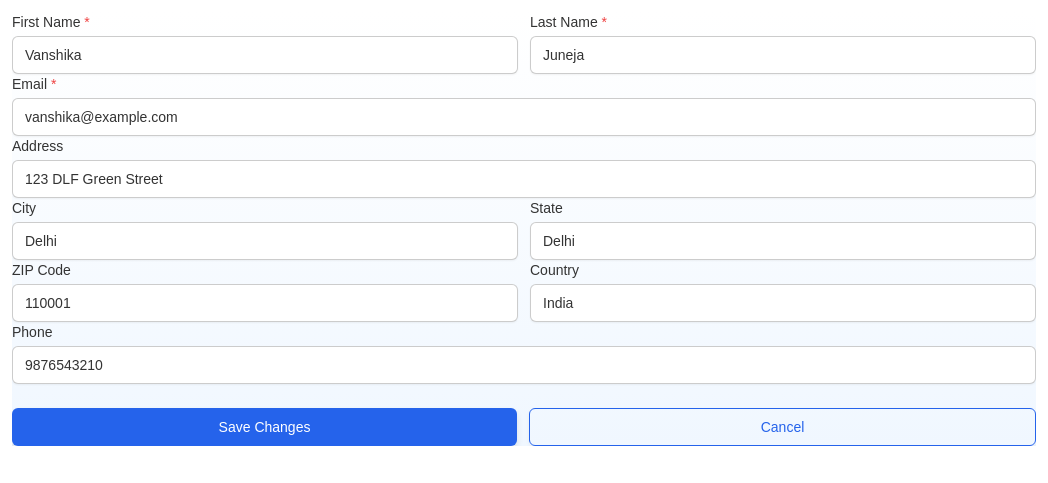
it: ProfileForm › validation › shows error for empty first name on submit
Clear the field labelled "First Name *" at (265, 55), box [12, 36, 518, 74]
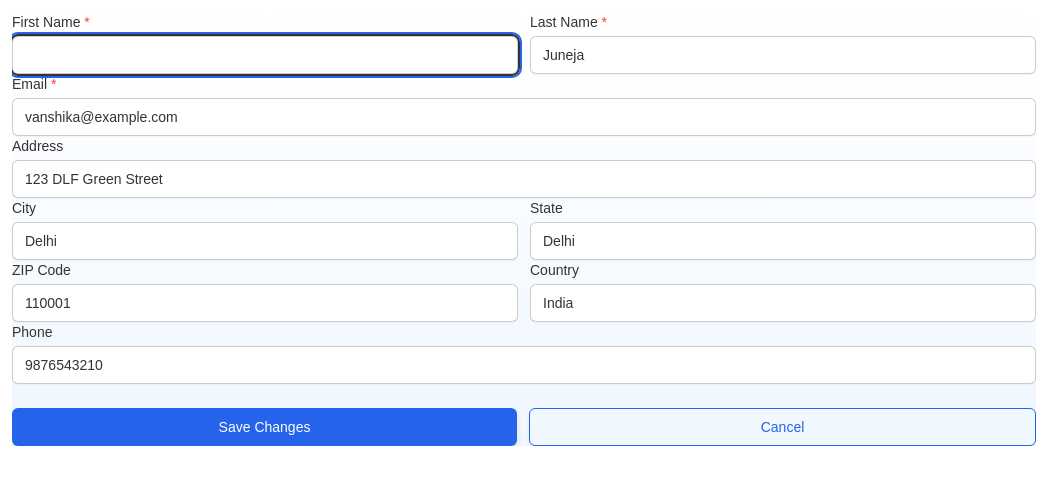
Click the button "Save Changes" at (264, 427), box [12, 408, 517, 446]
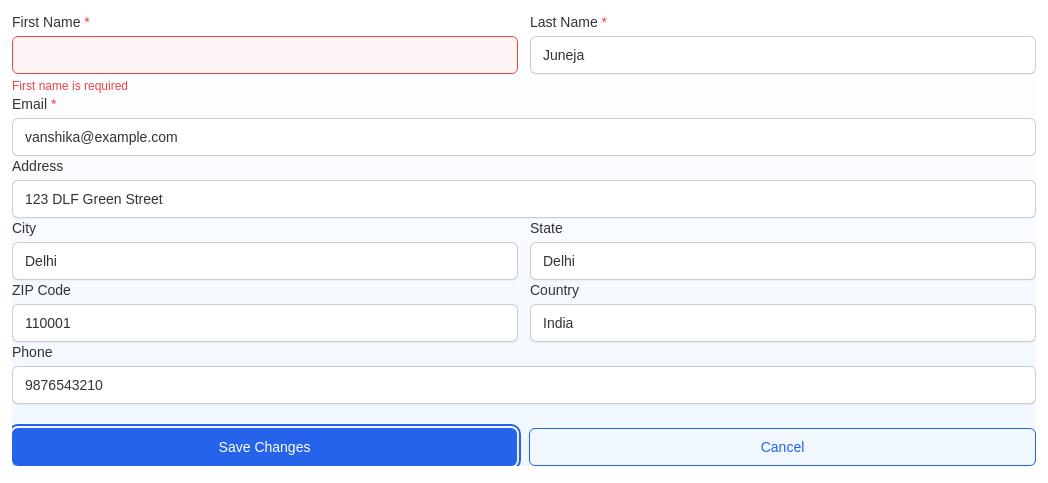
Expected: the text "First name is required" is shown, [12, 79, 128, 93]
